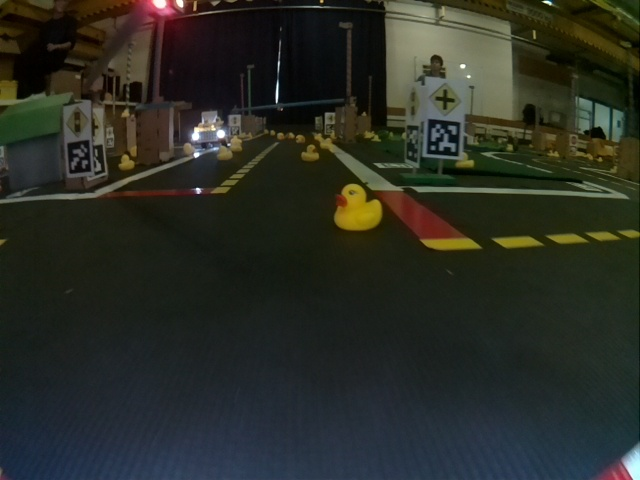Duckie: (334, 183, 383, 230), (302, 144, 319, 161), (456, 153, 474, 168), (118, 155, 134, 170), (218, 146, 231, 160), (231, 137, 242, 151), (184, 143, 195, 154)
Intersection sign: (428, 81, 461, 118), (93, 112, 102, 138)
QR code: (424, 120, 459, 156), (66, 139, 90, 174), (405, 125, 418, 165)
Signal sign: (66, 107, 88, 137), (408, 90, 421, 121)
